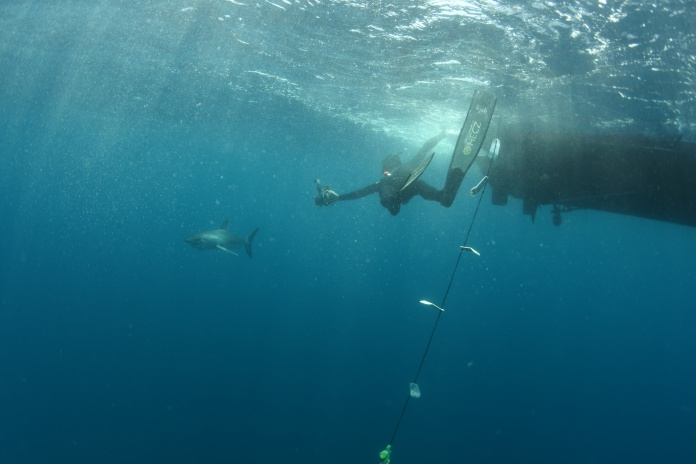Mako: (173, 205, 269, 262)
